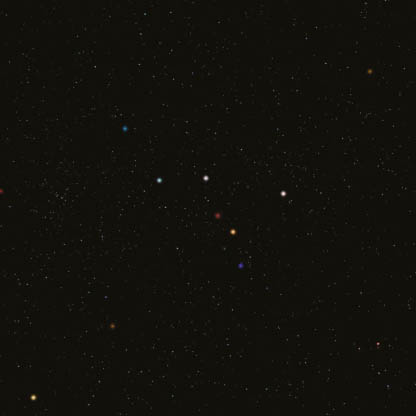Cassiopeia: (207, 207, 246, 243), (148, 169, 169, 192), (116, 115, 136, 138), (198, 168, 219, 188), (272, 179, 291, 201)
